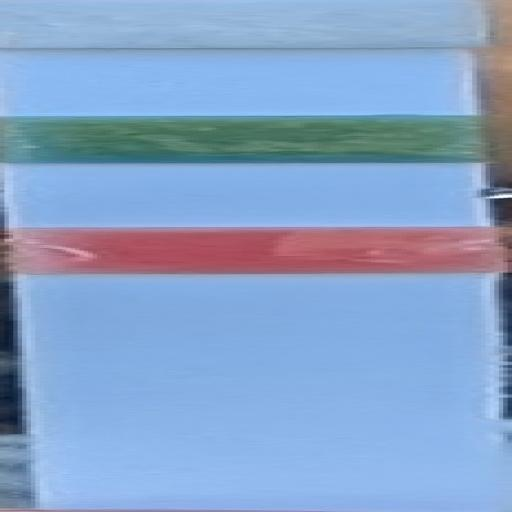pads: (0, 0, 512, 50), (0, 113, 506, 163), (22, 227, 512, 272)
